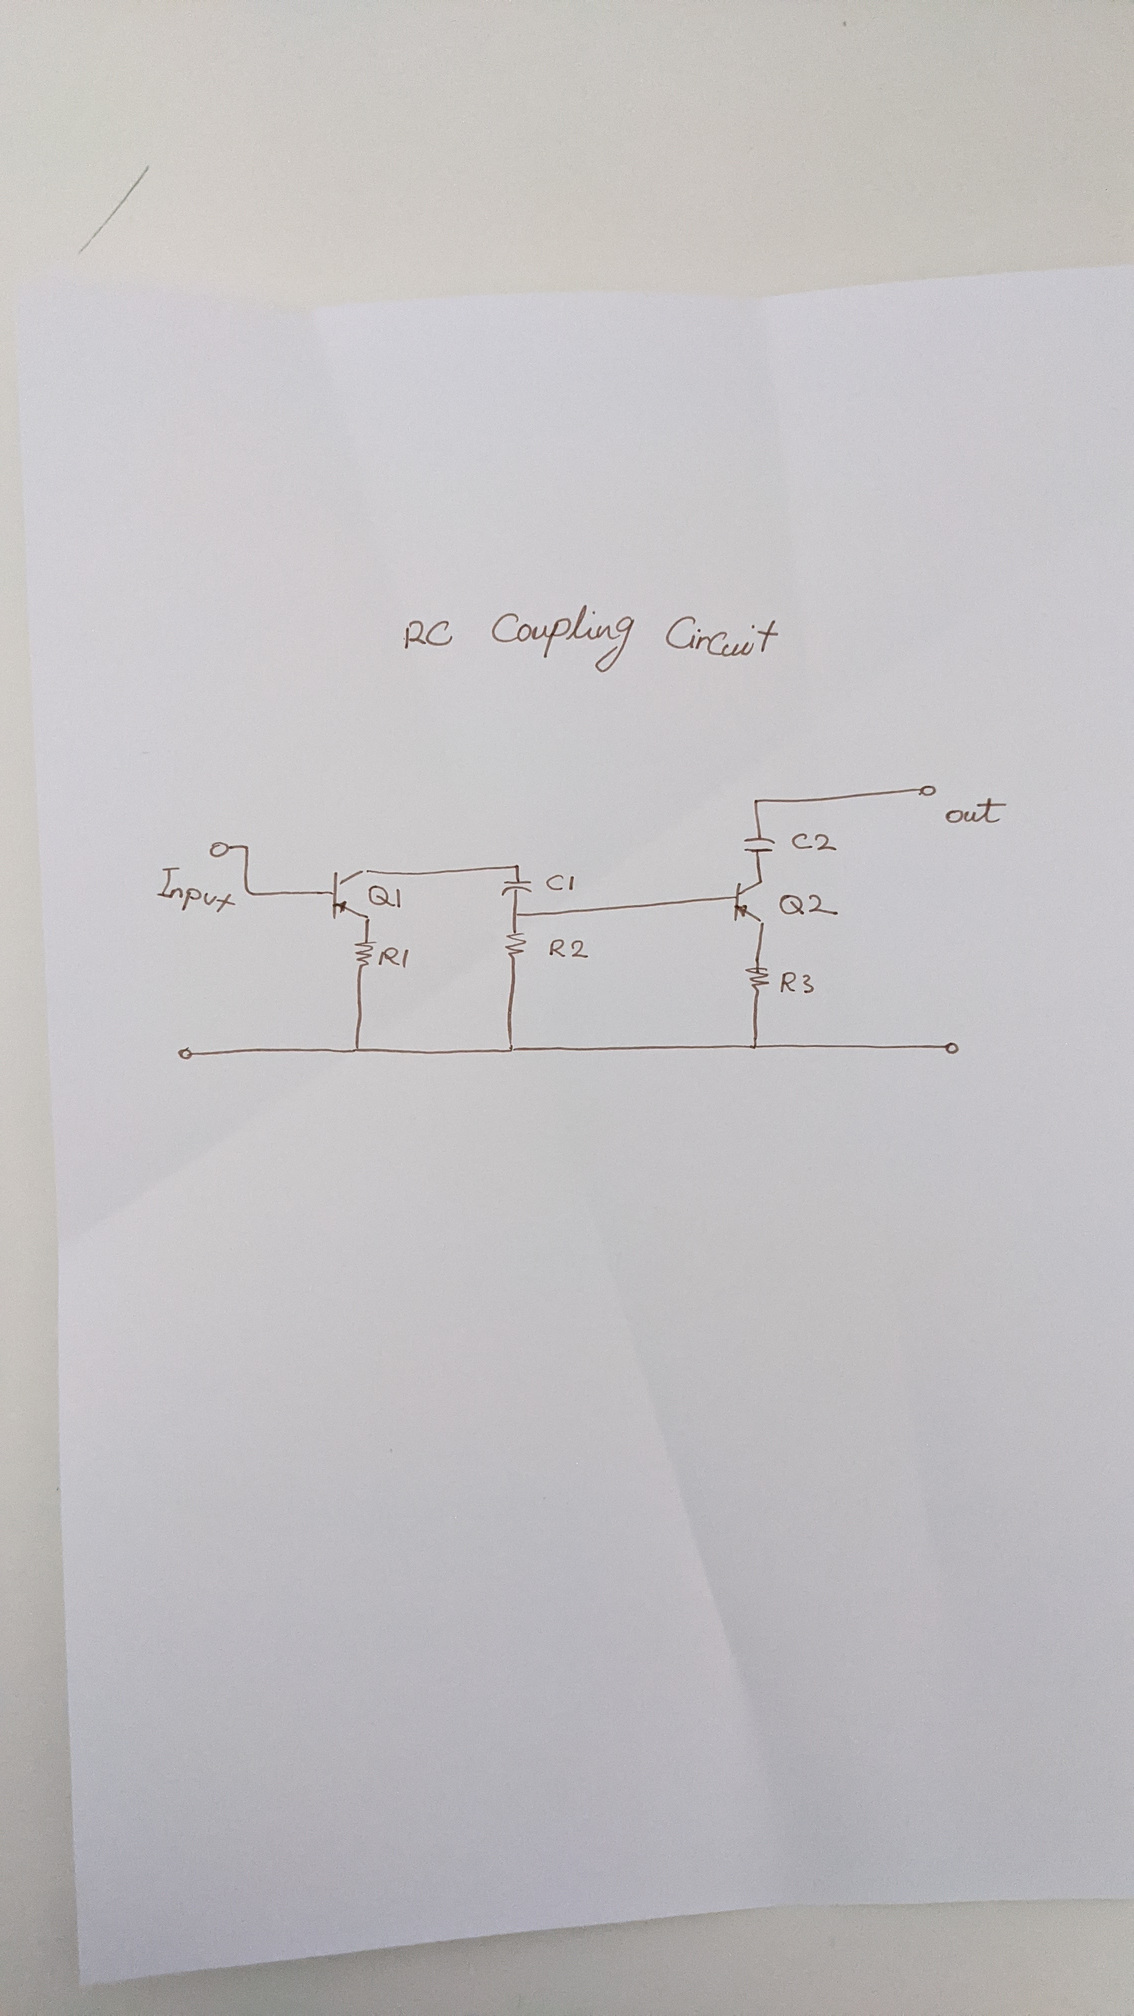capacitor.unpolarized: (741, 835, 780, 856), (498, 878, 536, 899)
junction: (348, 1043, 367, 1058), (504, 1038, 516, 1056), (241, 883, 255, 899), (749, 1040, 763, 1052), (510, 908, 521, 919), (750, 796, 762, 806), (511, 861, 523, 870), (241, 843, 252, 852)
resistor: (742, 964, 773, 997), (352, 937, 378, 971), (504, 928, 529, 961)
terminal: (208, 840, 233, 860), (942, 1040, 962, 1056), (176, 1045, 197, 1061), (915, 784, 937, 798)
text: (402, 602, 781, 674), (155, 865, 235, 915), (944, 796, 1008, 825), (777, 892, 839, 918), (547, 937, 591, 961), (791, 831, 840, 852), (778, 971, 816, 996), (377, 944, 411, 971), (367, 883, 403, 908), (544, 872, 577, 893)
transistor: (330, 865, 372, 922), (731, 876, 768, 928)
